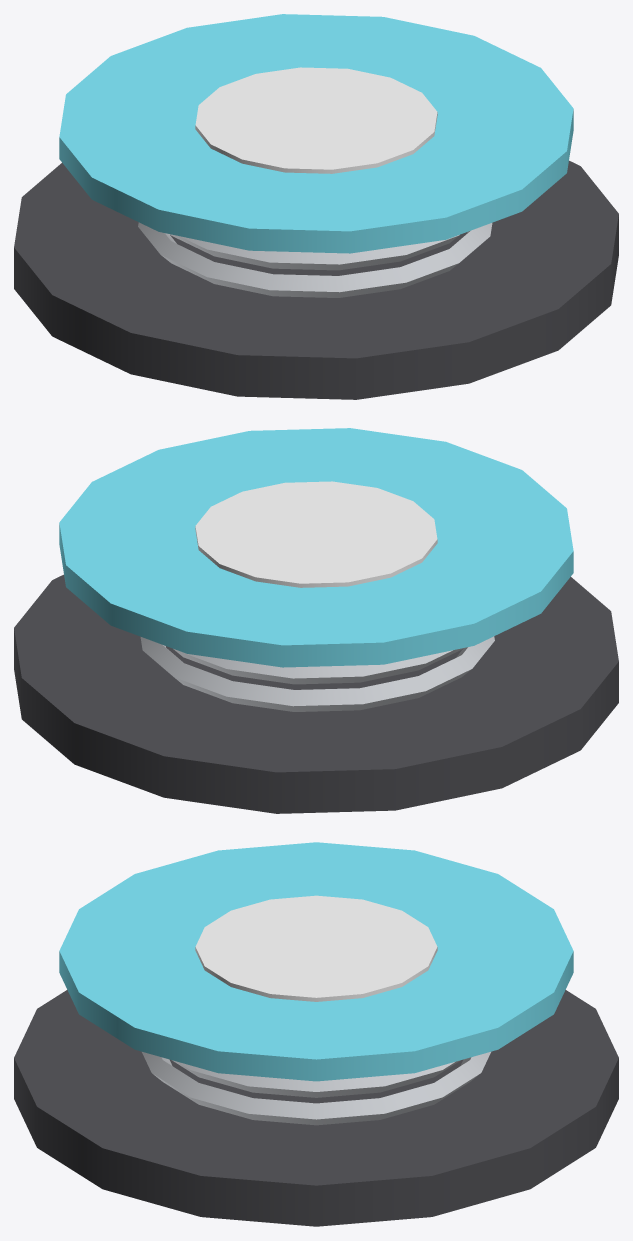
File: sb_bounce_pad.glb
The picture shows the model from 3 angles, top to bottom: view 1: azimuth 30°, elevation 25°; view 2: azimuth 150°, elevation 25°; view 3: azimuth 270°, elevation 25°; orthographic projection.
Parts seen in each view (by area): view 1: sb_bounce_pad; view 2: sb_bounce_pad; view 3: sb_bounce_pad.
Boxes of the visible parts, x1,y1,x2,y2 form: sb_bounce_pad: (14,14,618,399); sb_bounce_pad: (14,428,618,813); sb_bounce_pad: (14,842,618,1226).
Size of the model in its own units: 2 by 0.555 by 2.
